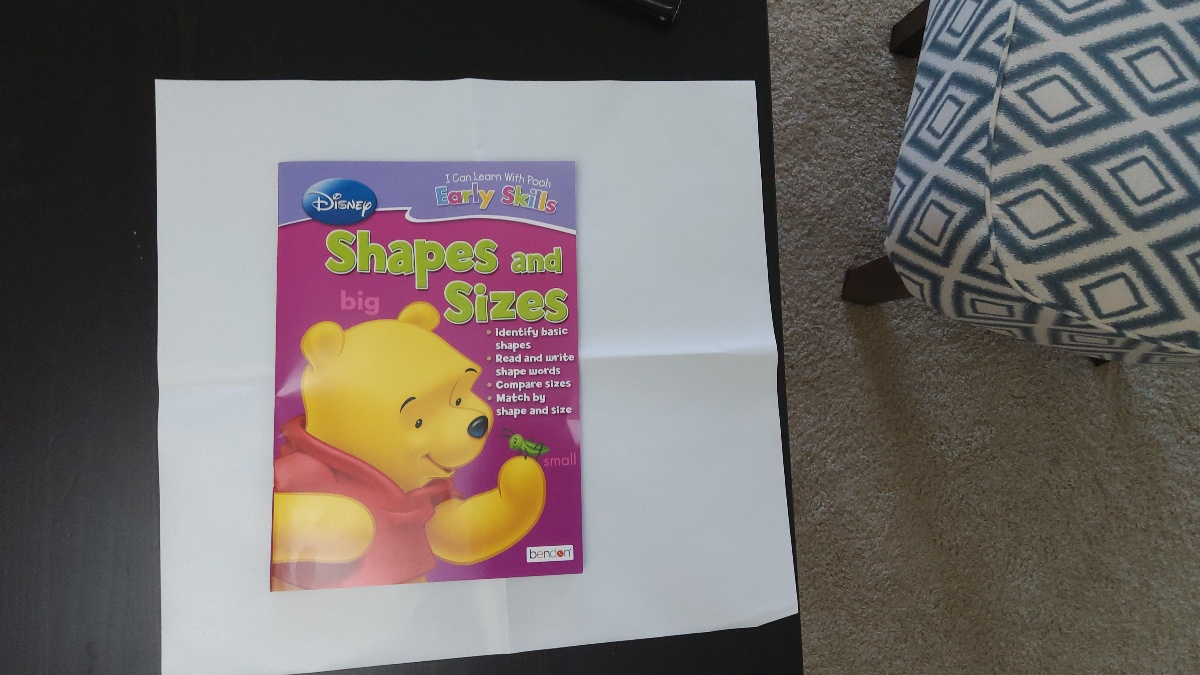book: (278, 163, 577, 578)
